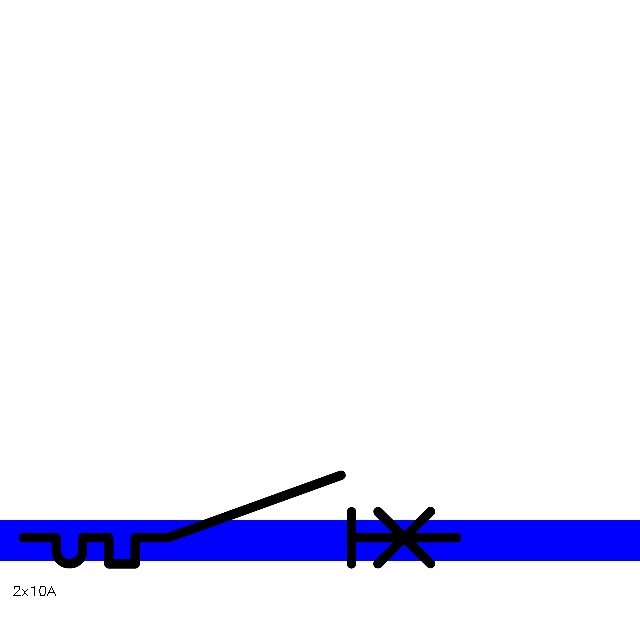interruptor_termomagnetico: (12, 464, 468, 575)
